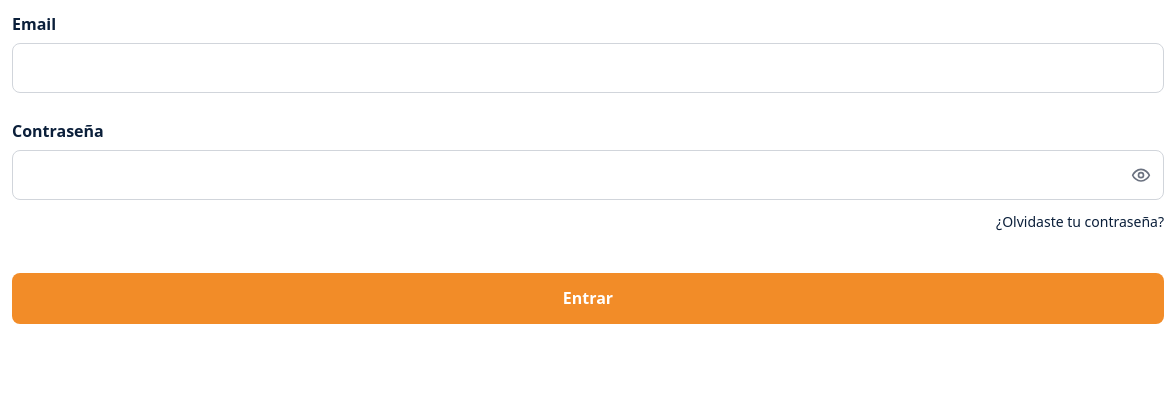
Test case: AdminLoginForm › changes to a recovery code and goes back to the password
Type "admin@bg.es" into the field with id "login-email".
click(588, 68); type("admin@bg.es")  # box [12, 43, 1164, 93]
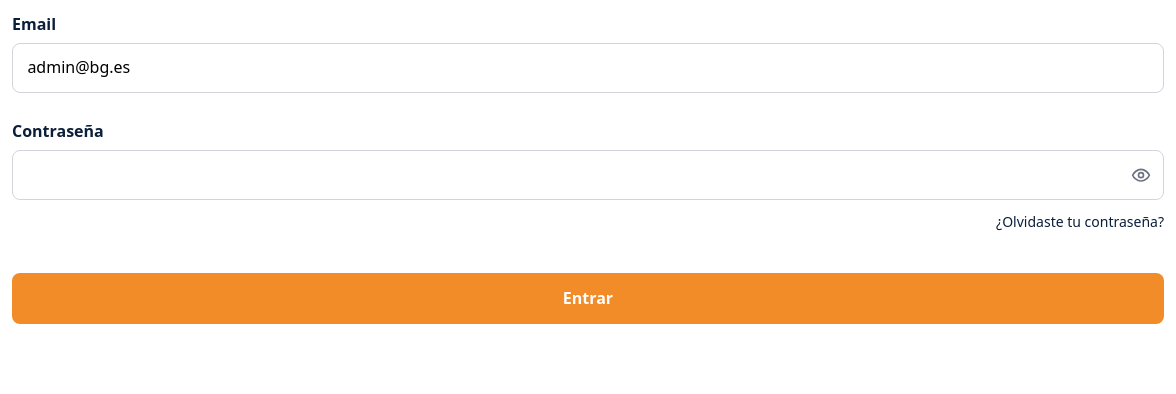
Type "secret123" into the password field with id "login-password".
click(588, 175); type("secret123")  # box [12, 150, 1164, 200]
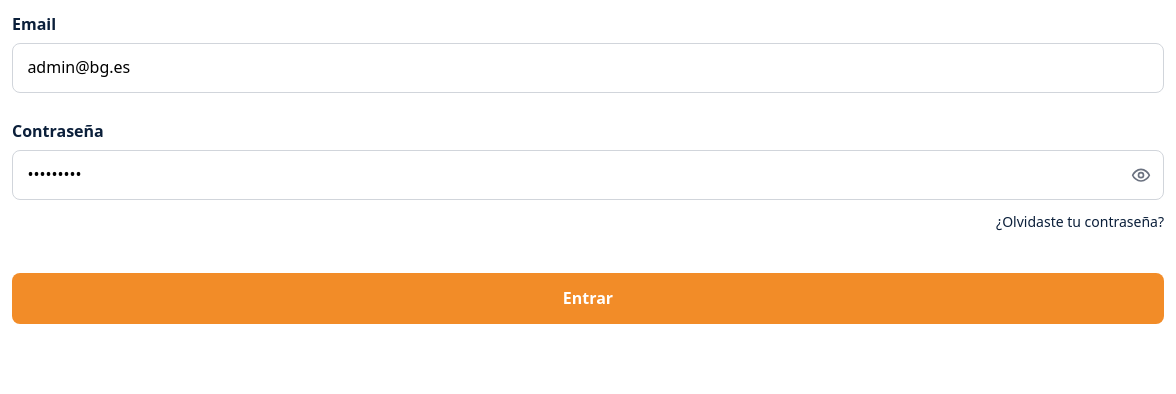
Submit the form
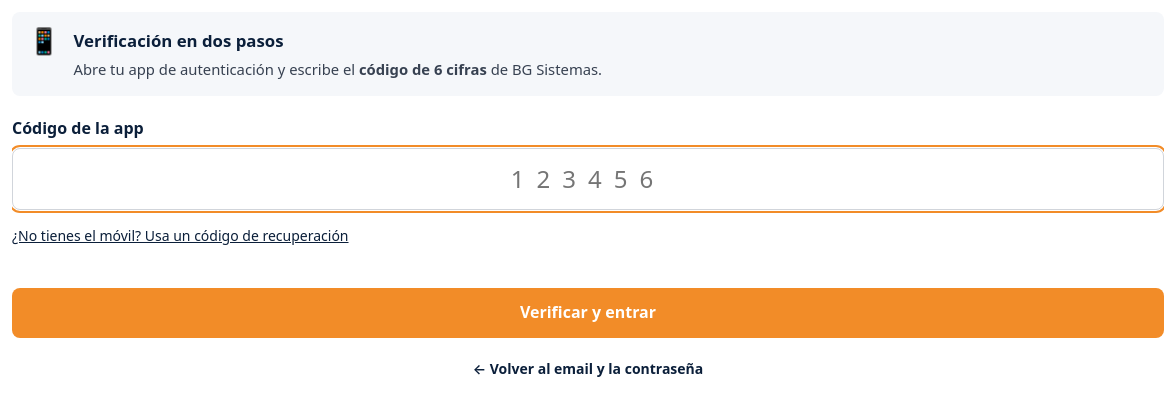
Click the button with test id "toggle-recovery".
click(180, 237)  # box [12, 226, 348, 248]
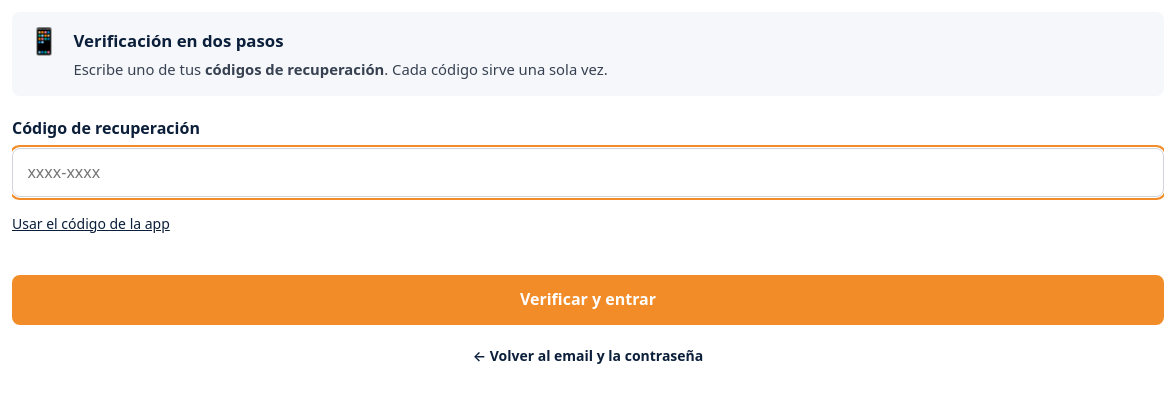
Expected: the label "Código de recuperación" is shown, [12, 117, 200, 139]
Click the button with test id "back-to-password".
click(588, 357)  # box [473, 345, 703, 368]
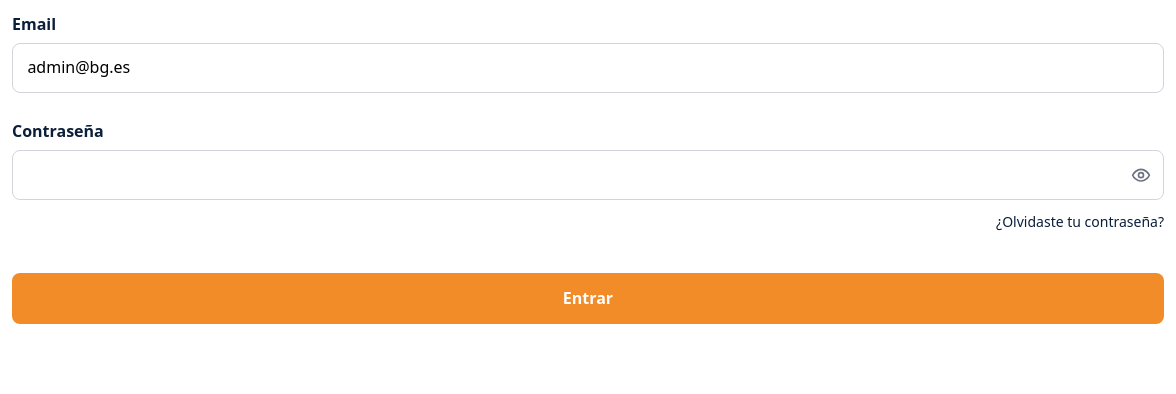
Expected: the password field with id "login-password" is shown, [12, 150, 1164, 200]
